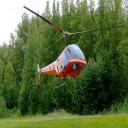helicopter: (25, 8, 125, 92)
